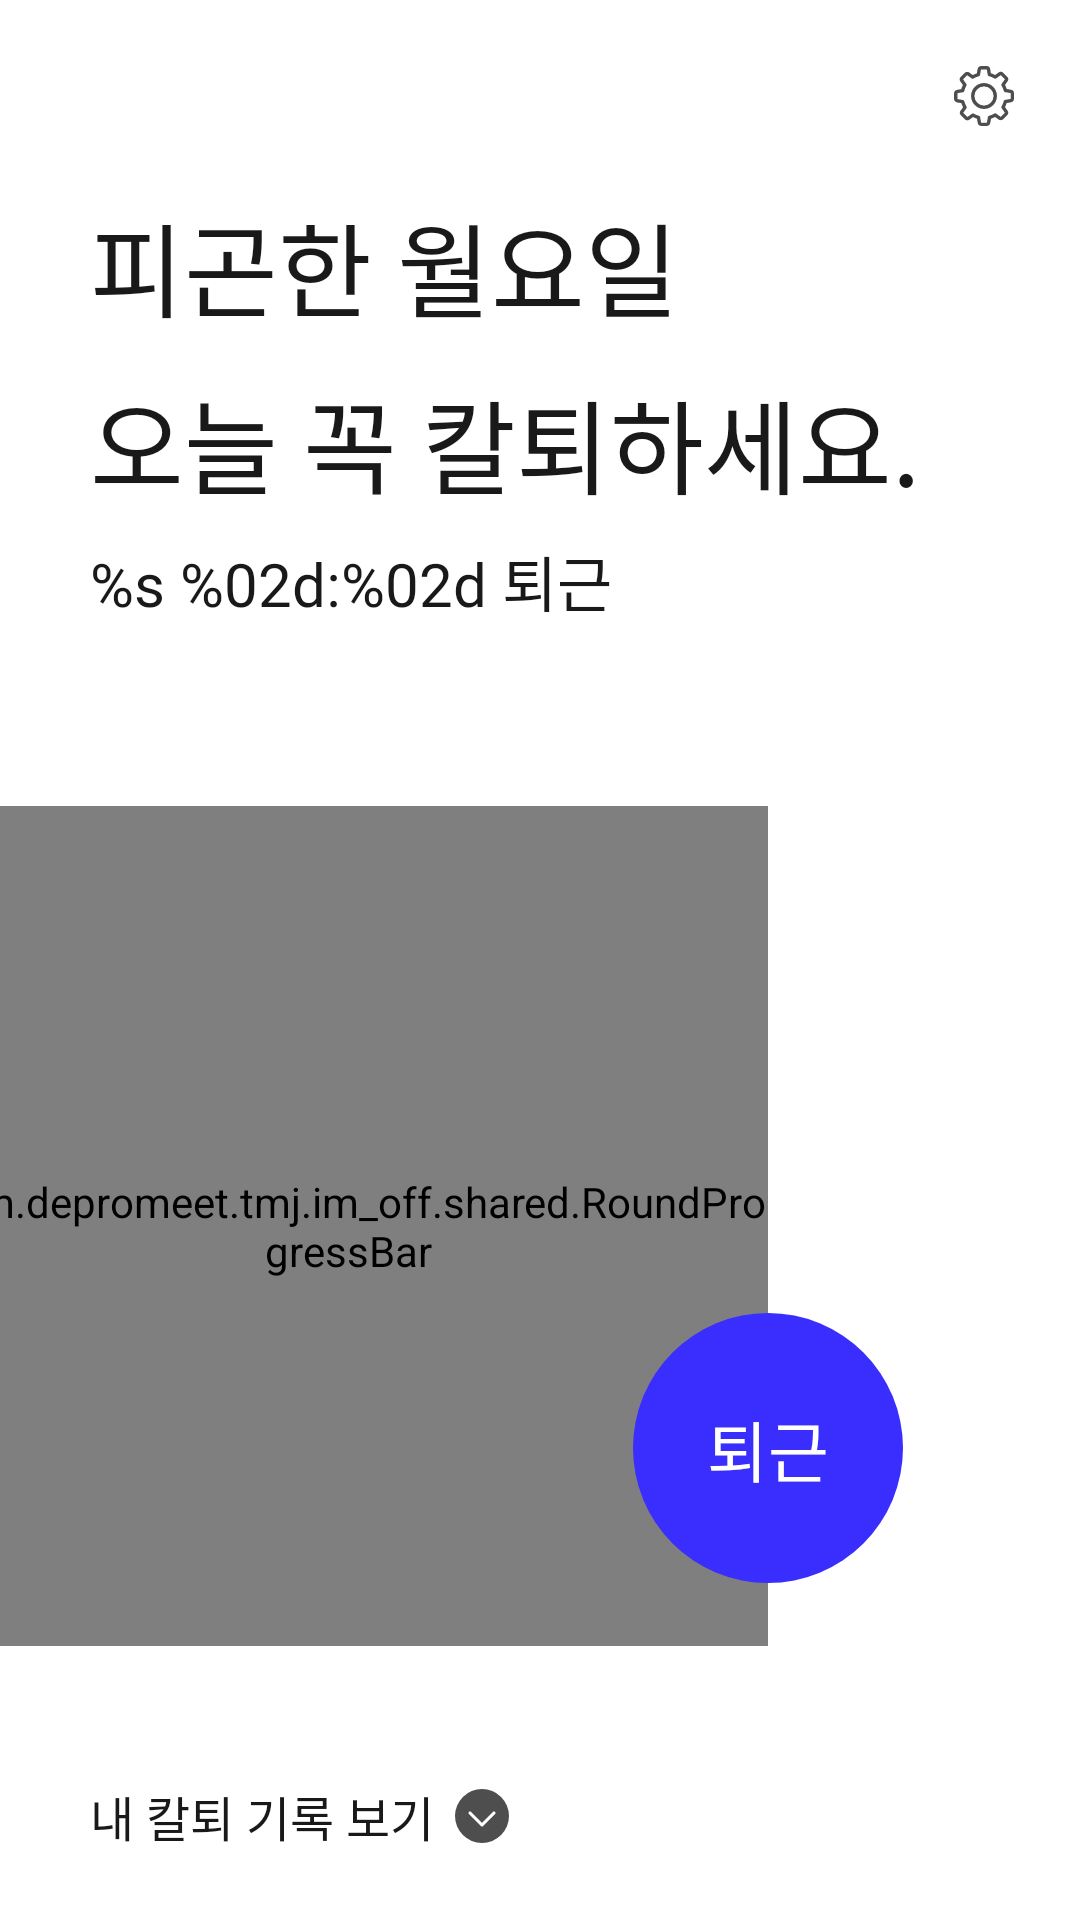

Screen size 1080px×1920px. Icon name, then its box in pixels as [x1,y1,x2,y2]:
setting: [954,66,1014,126]
